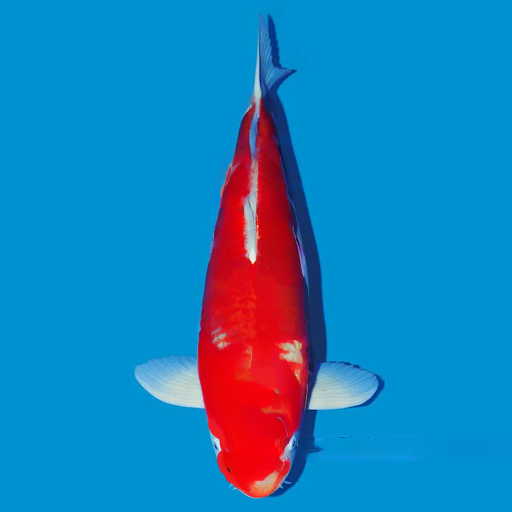red: (133, 12, 382, 500)
